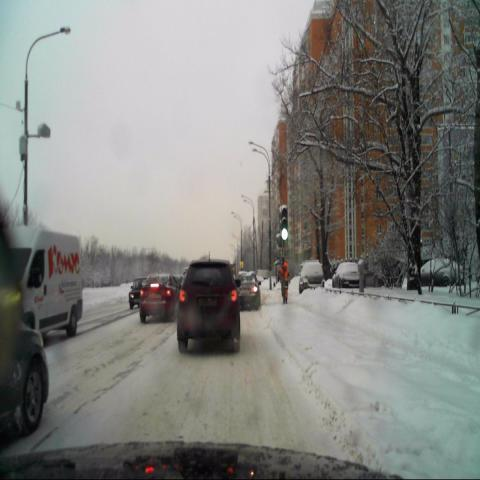6_16: (273, 245, 291, 259)
